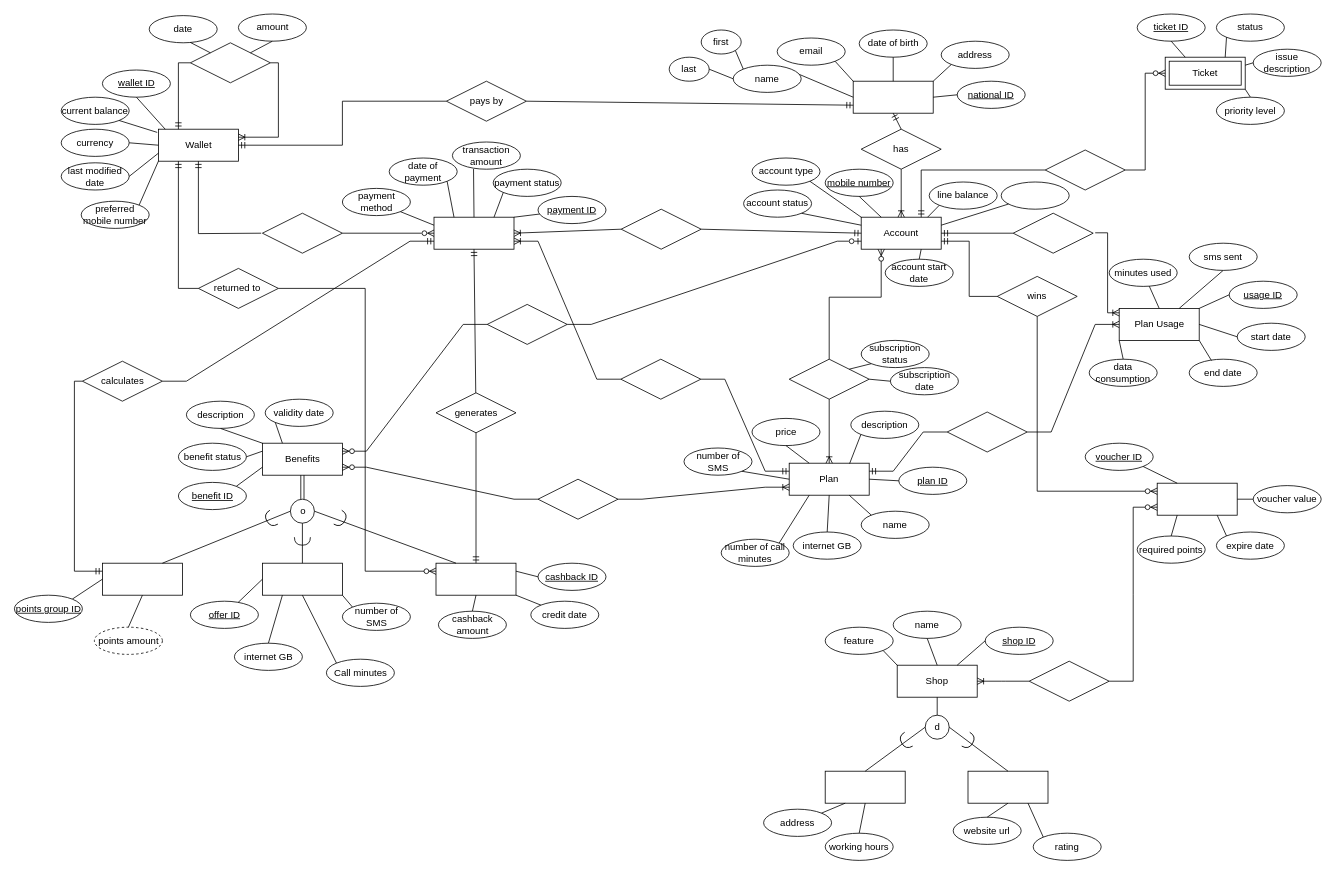
The diagram is 1335 pixels wide and 874 high, and some of its shapes have lost their labels. Here are the shapes that lost their labels. From the top down, the centre of each, then its label:
At point (230, 62): "transfers".
At point (892, 96): "Customer Profile".
At point (1084, 169): "opened".
At point (1034, 195): "total points".
At point (302, 232): "pays".
At point (473, 232): "Payment".
At point (660, 228): "manages".
At point (1052, 232): "consumed".
At point (526, 324): "benefits from".
At point (660, 378): "processed".
At point (828, 378): "Subscription".
At point (986, 431): "used".
At point (577, 498): "provides".
At point (1196, 498): "Voucher".
At point (142, 578): "points group".
At point (302, 578): "exclusive offer".
At point (475, 578): "cashback".
At point (1068, 680): "redeemed in".
At point (864, 786): "Physical Shop".
At point (1007, 786): "E-shop".
